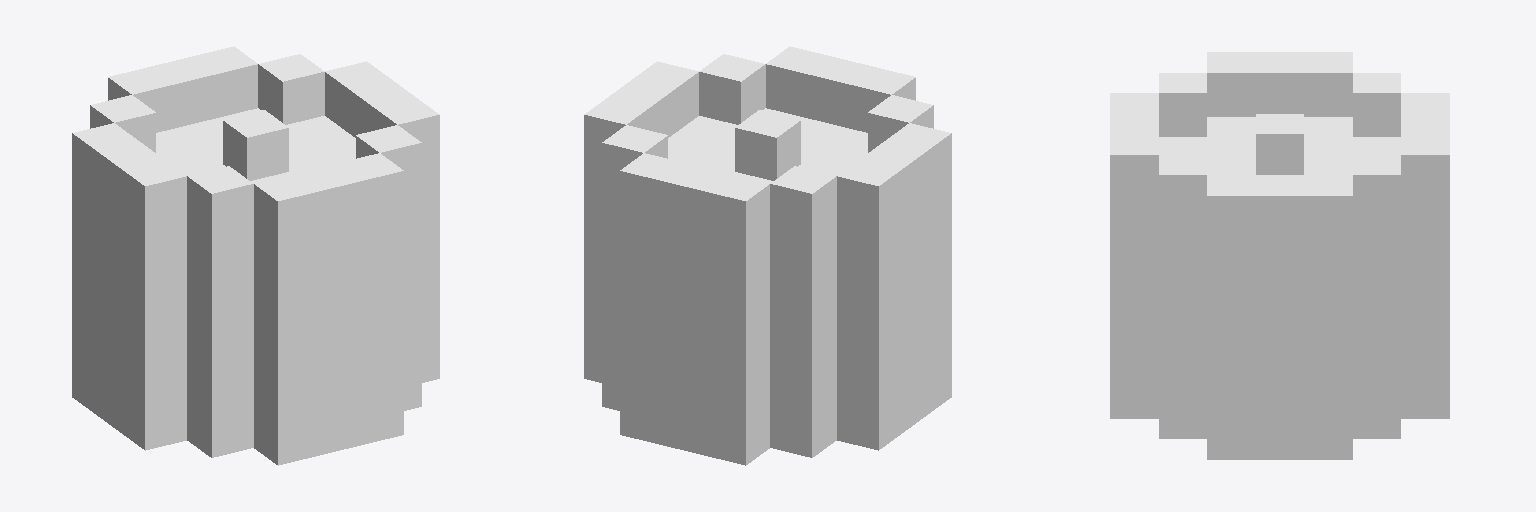
The model's file is Bougie.obj.
3 renders of one model, left to right at view 1: azimuth 30°, elevation 25°; view 2: azimuth 150°, elevation 25°; view 3: azimuth 270°, elevation 25°, orthographic.
Visible parts, largest first — view 1: Bougie; view 2: Bougie; view 3: Bougie.
Part boxes in pixels (left/top/right/bottom): Bougie: left=72, top=46, right=439, bottom=465; Bougie: left=584, top=46, right=951, bottom=465; Bougie: left=1110, top=52, right=1449, bottom=459.
Size of the model in its own units: 7 by 6 by 7.